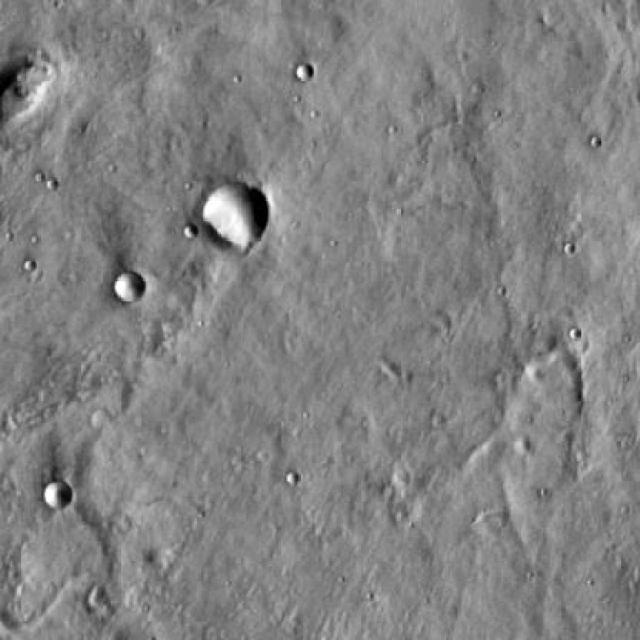crater: (205, 185, 267, 246), (42, 480, 73, 509), (114, 275, 141, 302), (296, 60, 312, 77)
